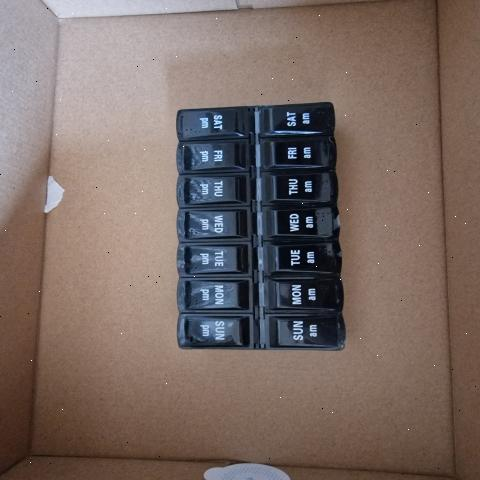FRI-am: (260, 137, 334, 169)
FRI-pm: (176, 138, 251, 170)
MON-am: (262, 274, 341, 314)
MON-pm: (175, 278, 251, 312)
SAT-am: (259, 105, 334, 137)
SAT-pm: (175, 109, 249, 136)
SUN-am: (262, 315, 342, 348)
SUN-pm: (176, 317, 255, 350)
THU-am: (258, 169, 334, 203)
THU-pm: (176, 174, 248, 204)
TUE-am: (260, 240, 340, 274)
TUE-pm: (179, 241, 250, 278)
WED-am: (259, 204, 338, 237)
WED-pm: (177, 207, 250, 239)
